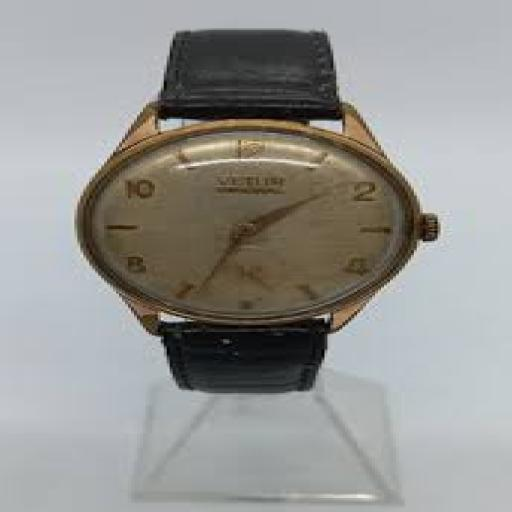KolSaati: (64, 5, 446, 405)
